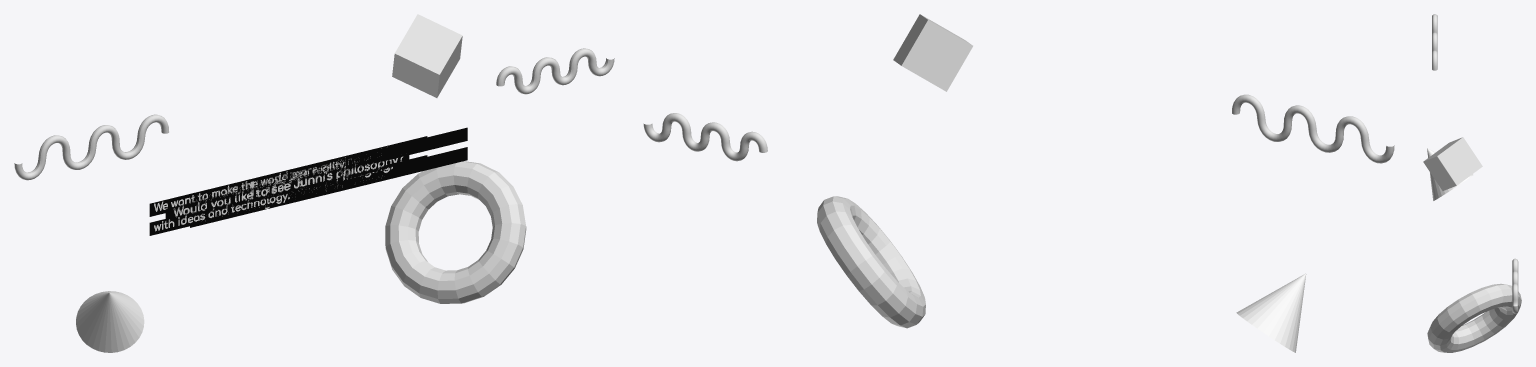
Rendered from common.glb.
The picture shows the model from 3 angles, left to right: view 1: azimuth 30°, elevation 25°; view 2: azimuth 150°, elevation 25°; view 3: azimuth 270°, elevation 25°; orthographic projection. The views are drawn at different scales.
Parts seen in each view (by area): view 1: Torus, Cube, Cone, Plane_005, Plane_002, Plane_003, Plane_001, Wave_Left, Wave_Right, Plane_004, Imaging; view 2: Torus, Cube, Cone, Wave_Left, Wave_Right; view 3: Torus, Cube, Wave_Right, Wave_Left, Cone.
Part boxes in pixels (x1=…): Torus: x1=385, y1=161, x2=526, y2=303; Cube: x1=392, y1=14, x2=462, y2=97; Cone: x1=76, y1=291, x2=144, y2=352; Plane_005: x1=165, y1=155, x2=409, y2=223; Plane_002: x1=149, y1=155, x2=427, y2=235; Plane_003: x1=190, y1=127, x2=467, y2=207; Plane_001: x1=149, y1=136, x2=427, y2=216; Wave_Left: x1=14, y1=114, x2=168, y2=180; Wave_Right: x1=496, y1=48, x2=614, y2=94; Plane_004: x1=190, y1=147, x2=467, y2=227; Imaging: x1=339, y1=163, x2=398, y2=185; Torus: x1=817, y1=196, x2=925, y2=328; Cube: x1=893, y1=14, x2=972, y2=91; Cone: x1=1236, y1=273, x2=1306, y2=352; Wave_Left: x1=1232, y1=94, x2=1394, y2=163; Wave_Right: x1=643, y1=113, x2=767, y2=161; Torus: x1=1427, y1=283, x2=1521, y2=352; Cube: x1=1423, y1=137, x2=1482, y2=190; Wave_Right: x1=1512, y1=258, x2=1518, y2=313; Wave_Left: x1=1432, y1=14, x2=1437, y2=70; Cone: x1=1427, y1=148, x2=1472, y2=200.
Size of what is drawn, in the model's own units: 8.72 by 3.71 by 1.62.
14 materials, 6 textured.
